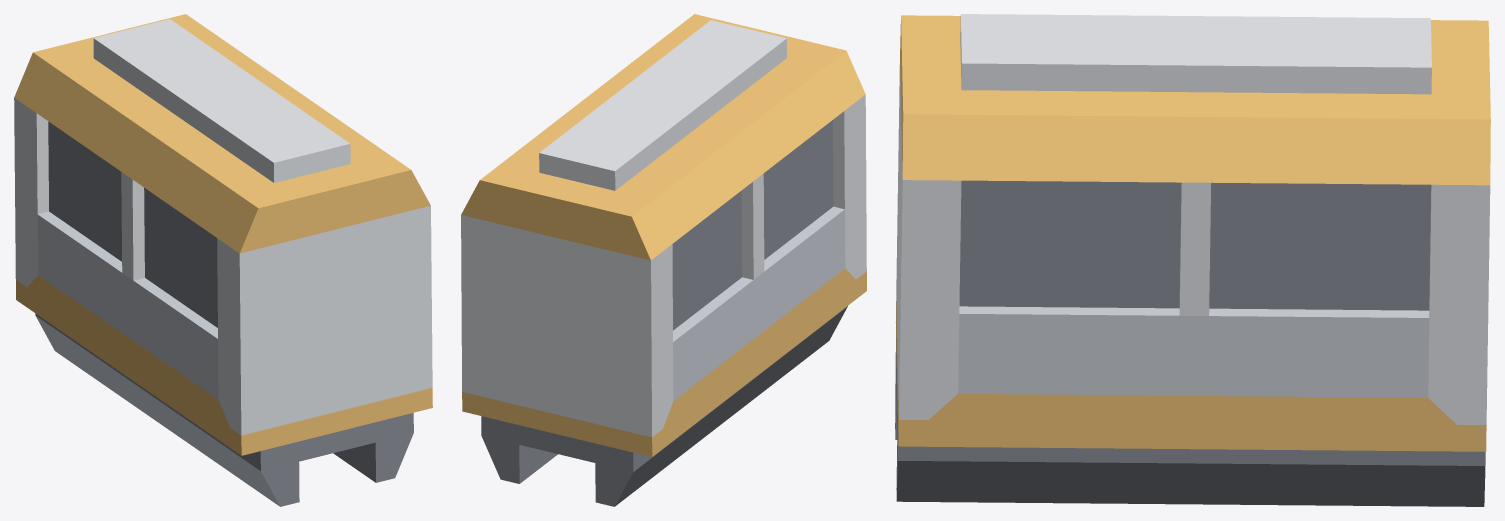
File: monorail2.glb
3 renders of one model, left to right at view 1: azimuth 30°, elevation 25°; view 2: azimuth 150°, elevation 25°; view 3: azimuth 270°, elevation 25°, orthographic. The views are drawn at different scales.
Parts seen in each view (by area): view 1: monorail_trainPassenger; view 2: monorail_trainPassenger; view 3: monorail_trainPassenger.
Boxes of the visible parts, x1,y1,x2,y2 form: monorail_trainPassenger: [14, 14, 432, 506]; monorail_trainPassenger: [461, 14, 866, 506]; monorail_trainPassenger: [895, 14, 1490, 506].
Size of the model in its own units: 2.55 by 4.06 by 5.07.
